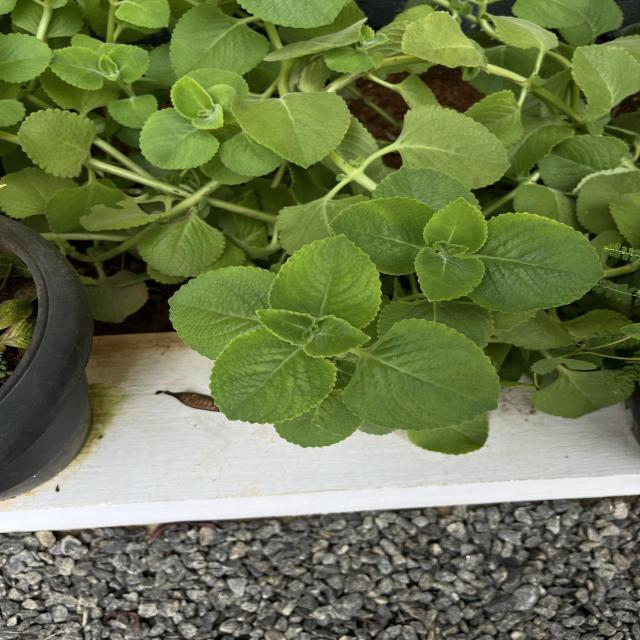Plectranthus barbatus: (339, 318, 502, 432), (468, 212, 608, 314), (208, 326, 339, 426), (266, 233, 382, 329), (167, 265, 276, 361), (398, 102, 514, 191), (228, 90, 354, 170), (327, 196, 432, 276), (168, 2, 271, 82), (16, 108, 100, 178), (138, 106, 222, 170), (413, 247, 486, 303), (422, 196, 488, 255), (303, 314, 372, 359), (219, 132, 285, 178), (0, 32, 54, 84), (255, 308, 319, 347)
